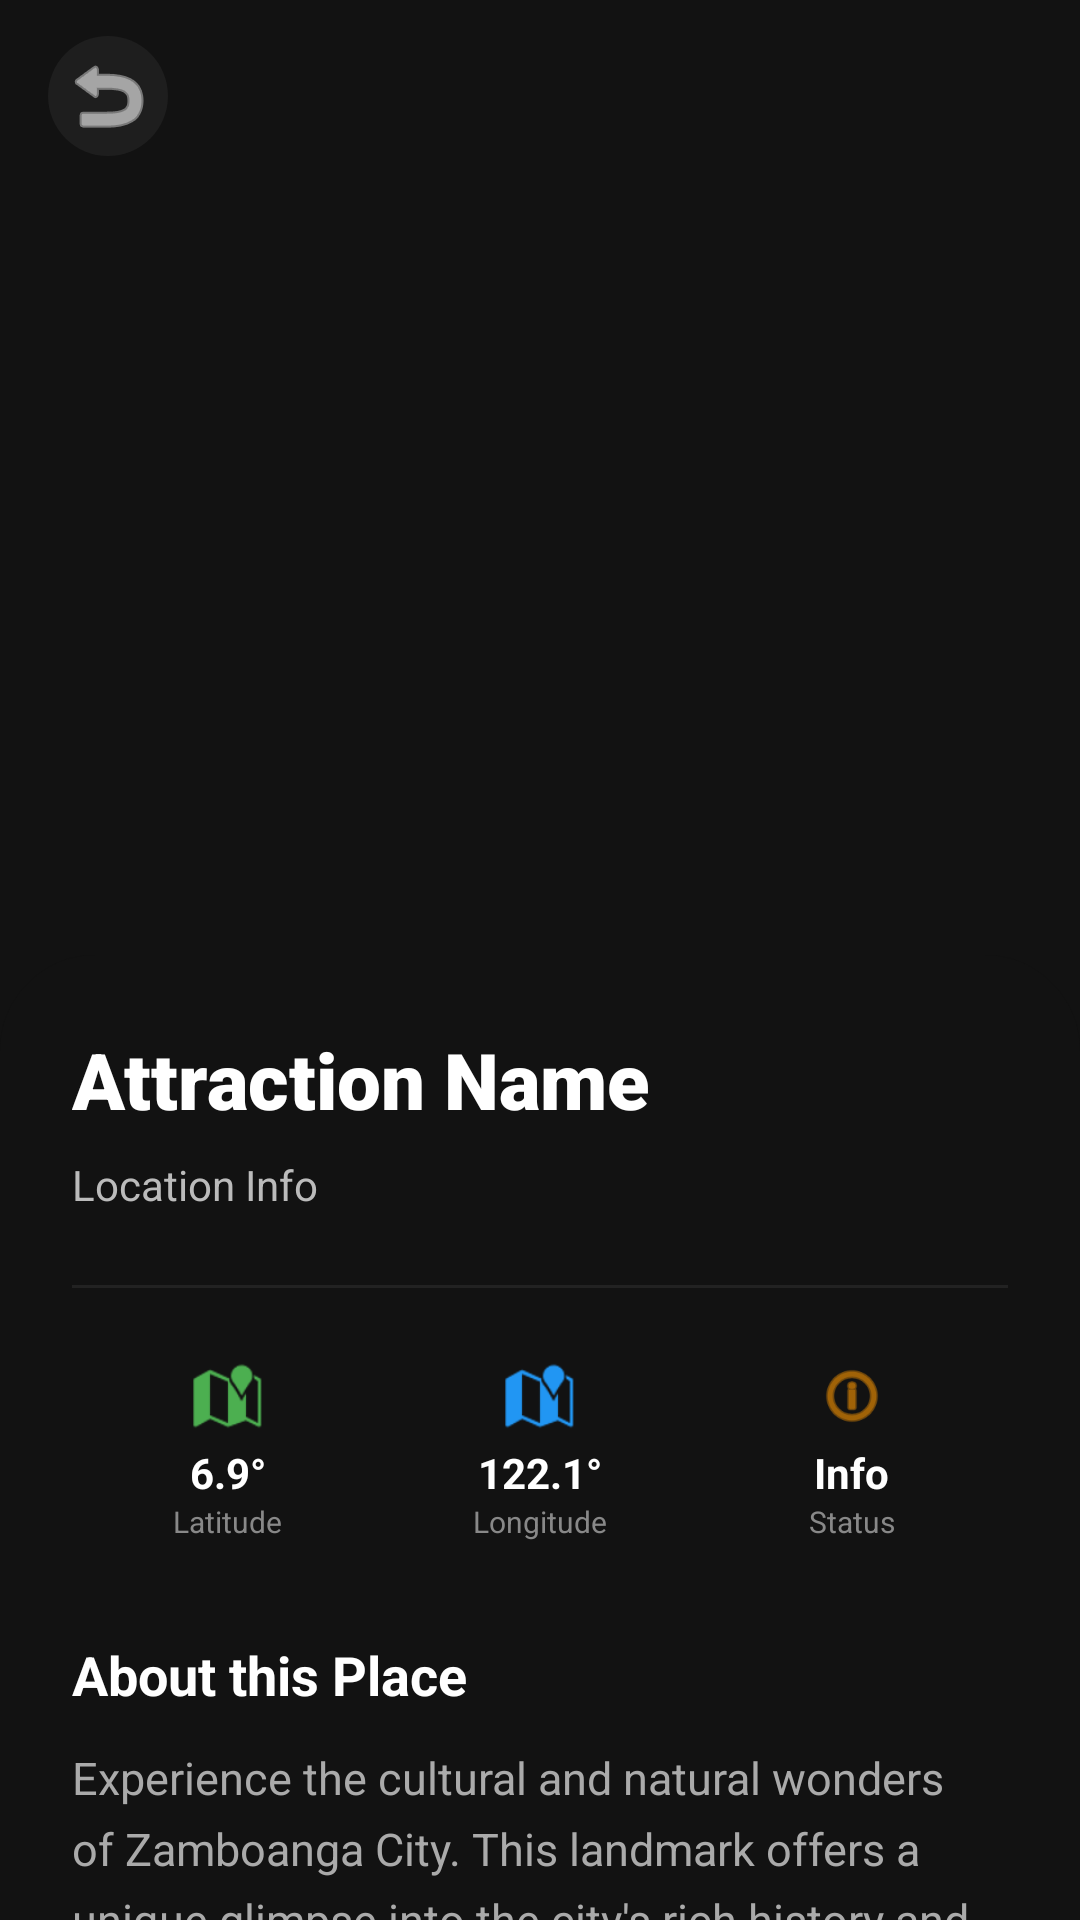

Named icons in this screenshot (1080px x 1920px) and their bounding boxes, (x1, y1, x2, y2):
map: (193, 1364, 262, 1428), (505, 1364, 574, 1428)
revert: (74, 65, 144, 128)
